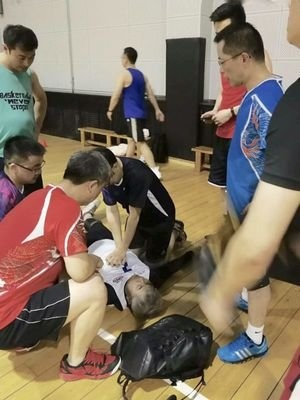falling: (73, 215, 168, 321)
